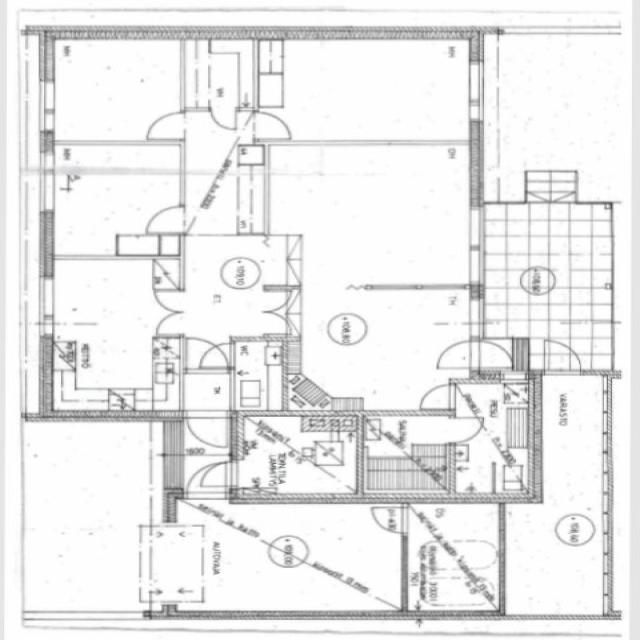door: (22, 421, 156, 529), (148, 285, 191, 339), (185, 458, 239, 500), (184, 409, 234, 452), (538, 338, 586, 382), (185, 336, 233, 374), (248, 108, 296, 144), (142, 202, 191, 237), (142, 108, 189, 144), (433, 337, 479, 373), (473, 338, 518, 374), (254, 285, 300, 318), (416, 381, 456, 415), (368, 503, 409, 536), (446, 414, 484, 446), (208, 104, 242, 133)
window: (463, 52, 488, 126), (34, 77, 60, 137), (35, 272, 60, 328), (35, 166, 60, 216), (465, 203, 487, 250)
zone: (270, 142, 472, 289), (484, 31, 632, 203), (282, 288, 470, 414), (204, 501, 403, 618), (260, 38, 477, 144), (46, 255, 182, 417), (45, 139, 185, 255), (46, 36, 186, 144), (21, 420, 158, 529), (404, 500, 504, 616), (230, 414, 360, 502), (24, 528, 148, 615), (448, 384, 534, 499), (362, 414, 452, 497), (186, 152, 268, 239), (180, 238, 300, 292), (181, 37, 257, 110), (143, 525, 207, 611), (233, 336, 287, 415)
